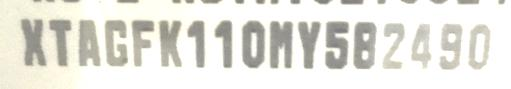letter: (437, 20, 464, 71), (19, 18, 47, 67), (75, 17, 102, 66), (240, 18, 265, 69), (324, 19, 349, 70), (408, 19, 433, 70), (297, 20, 322, 71), (158, 19, 184, 68), (466, 21, 492, 70), (103, 18, 128, 67), (130, 18, 155, 67), (269, 20, 294, 69), (352, 20, 377, 69), (381, 20, 406, 69), (184, 18, 208, 67), (212, 19, 235, 68), (48, 18, 71, 65)
